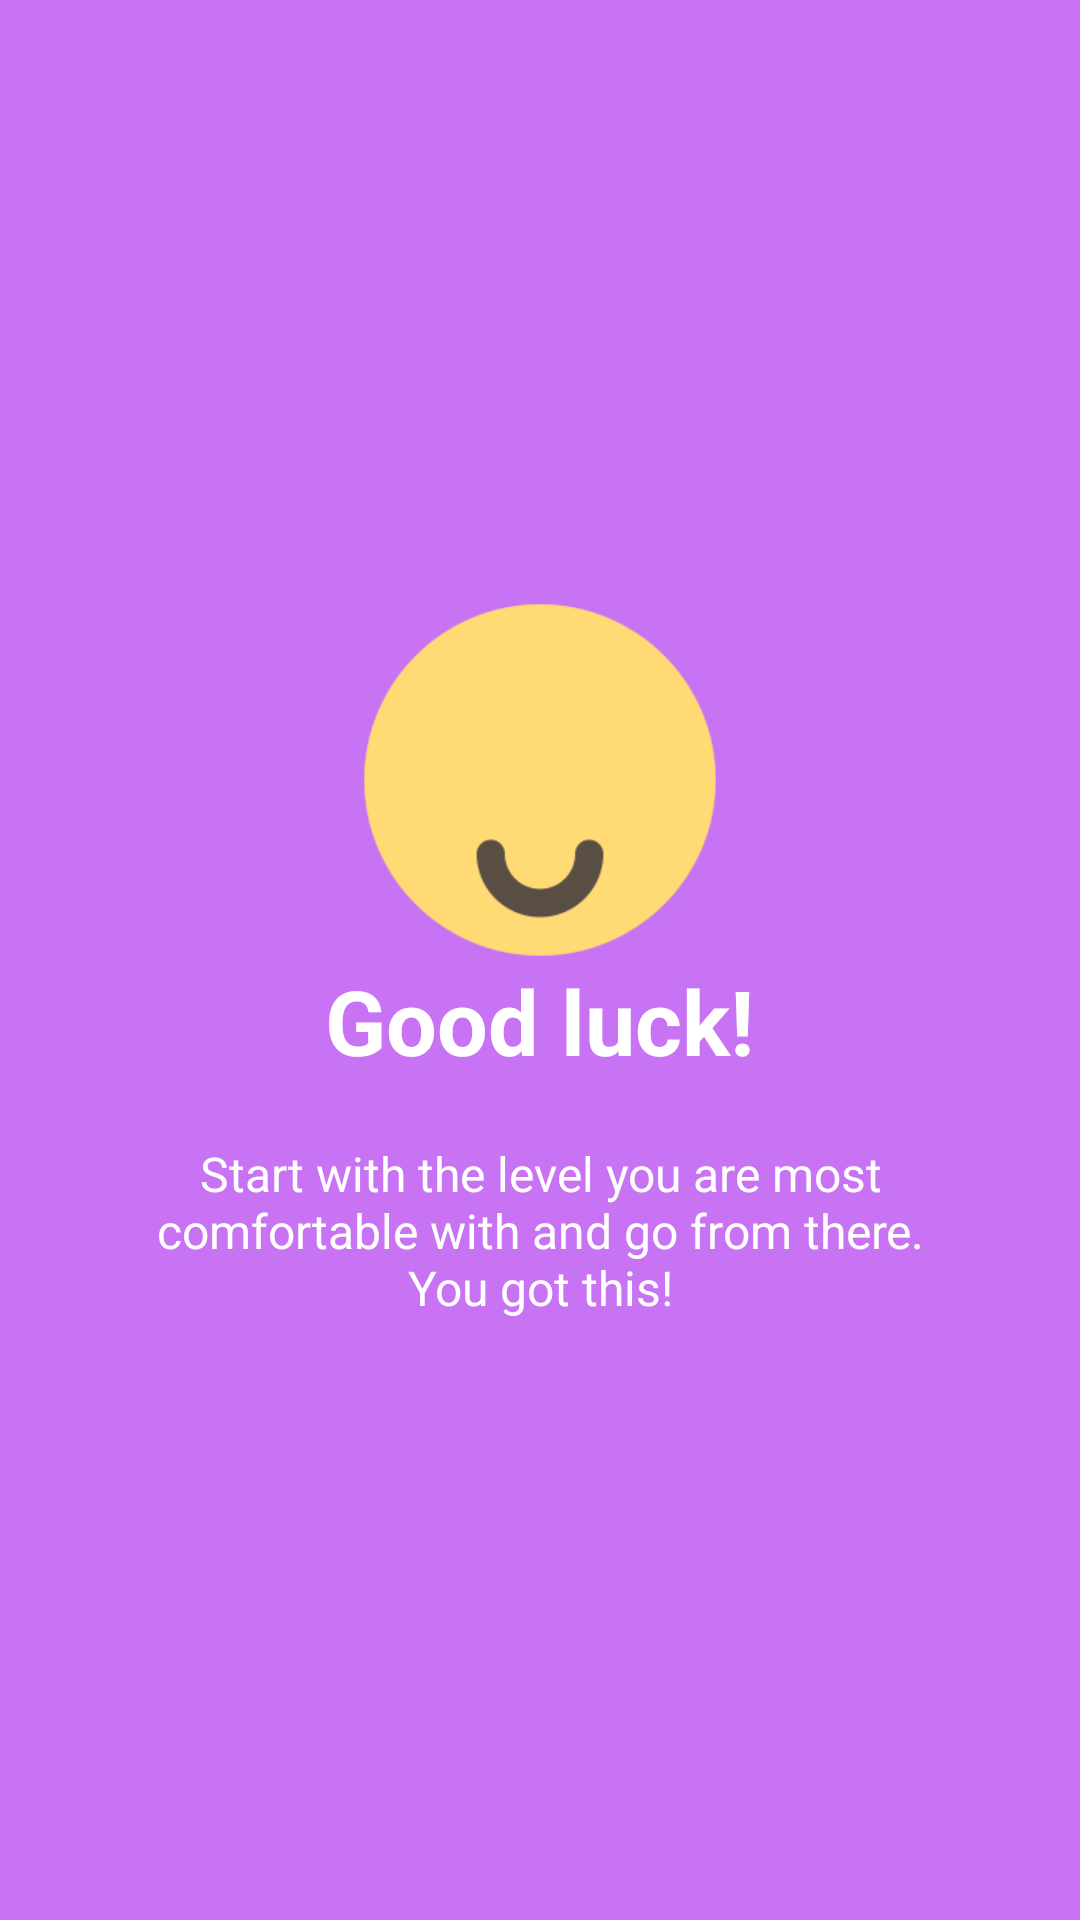

Screen size 1080*1920. Icon name, then its center in pixels as (x,y):
smile: (540,780)
